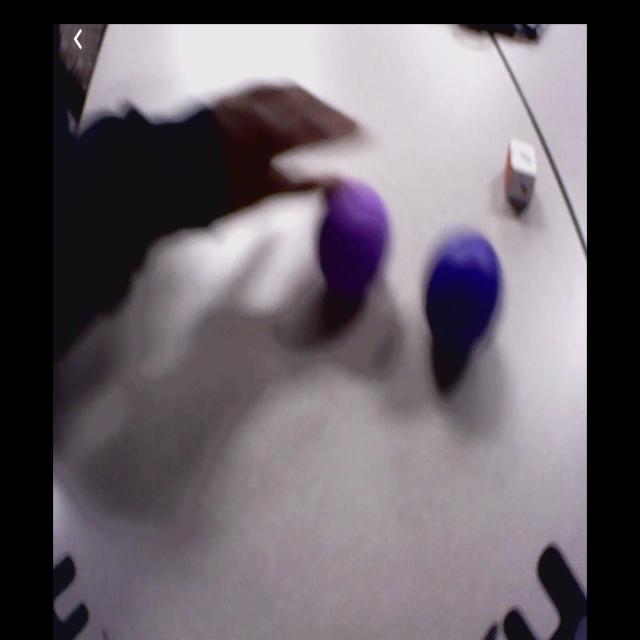ball: (426, 236, 501, 349), (320, 188, 387, 290)
